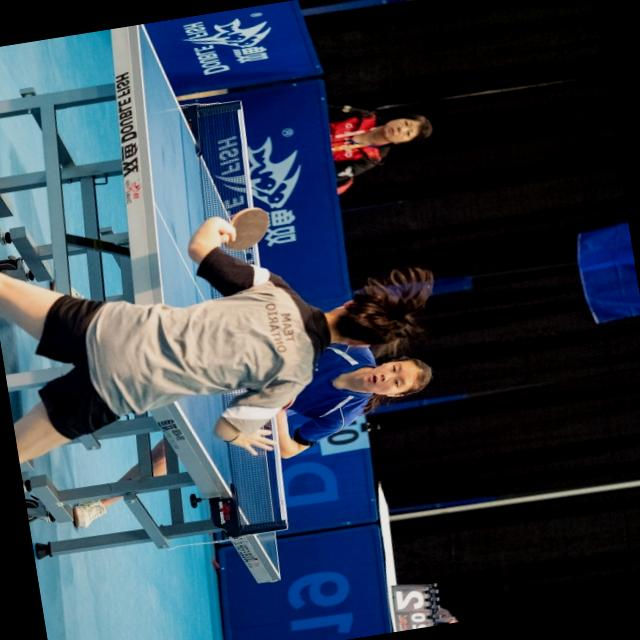TT Net: (181, 101, 290, 540)
TT Racket: (221, 205, 275, 256)
TT Table: (138, 18, 281, 586)
